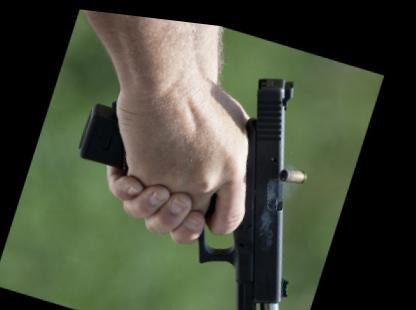pistol: (42, 18, 366, 307)
